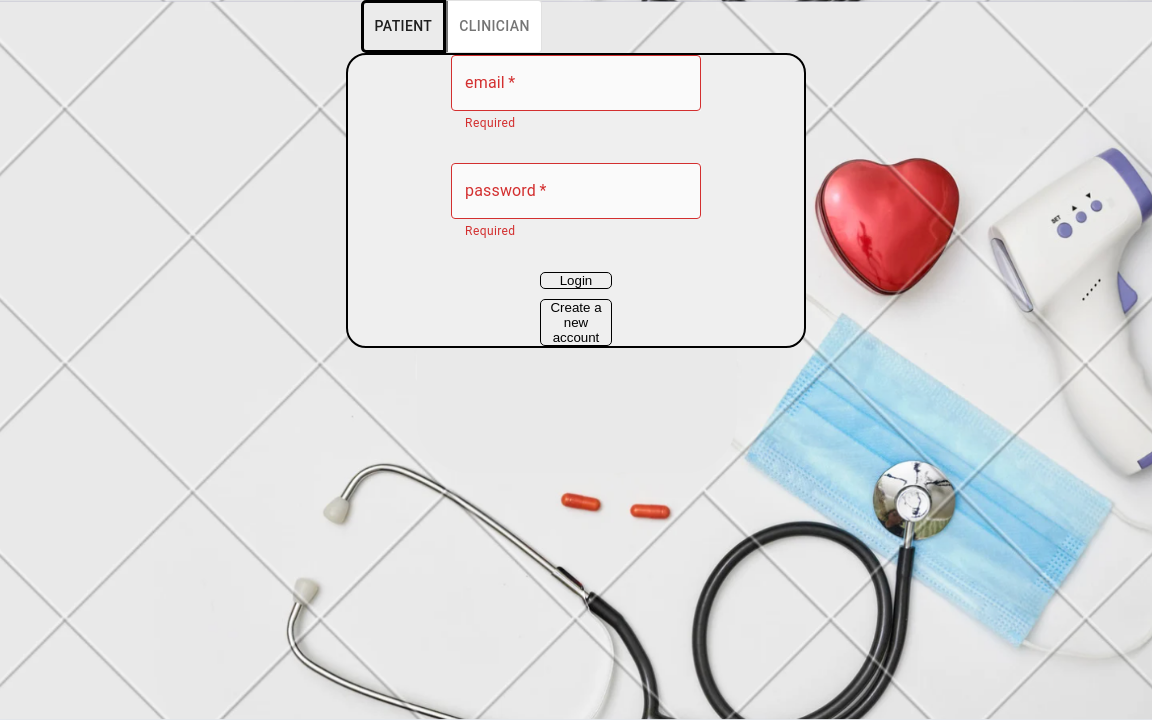
Scenario: Login Component › shows create account fields when create a new account button is clicked
Click the button "Create a new account".
click(576, 323)  # box [540,299,612,346]
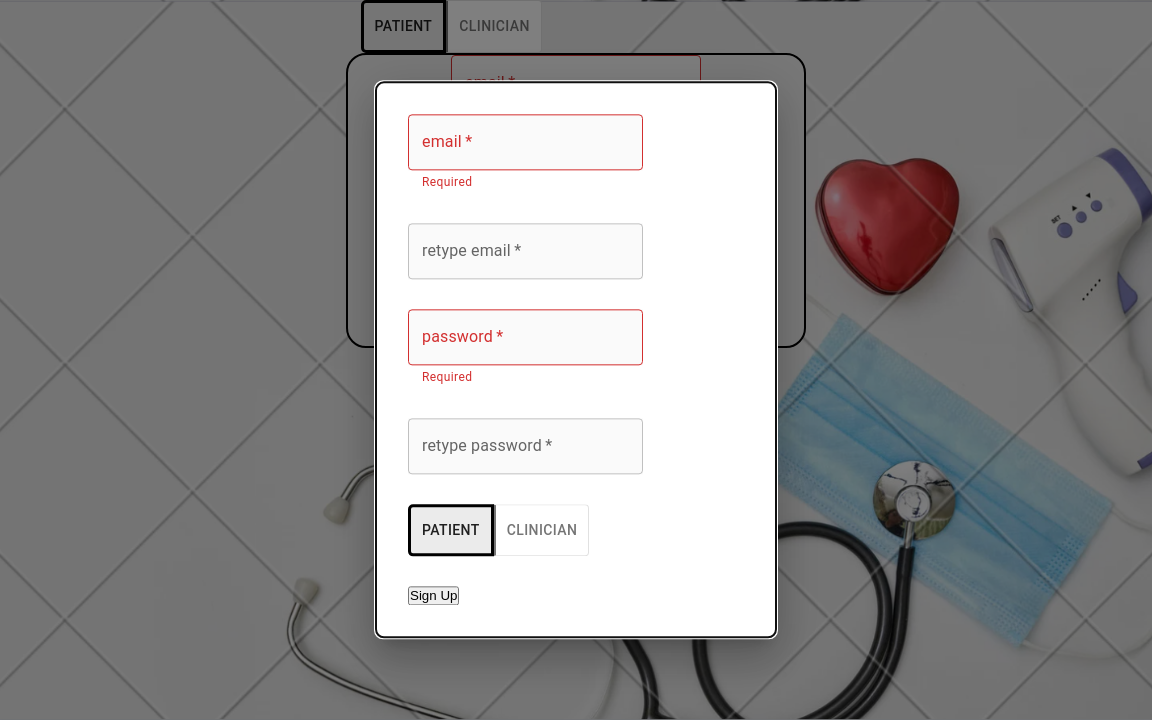
Now the element with test id "signup-email" is shown, box [408,114,643,193]
Now the element with test id "signup-retype-email" is shown, box [408,223,643,279]
Now the element with test id "signup-password" is shown, box [408,309,643,388]
